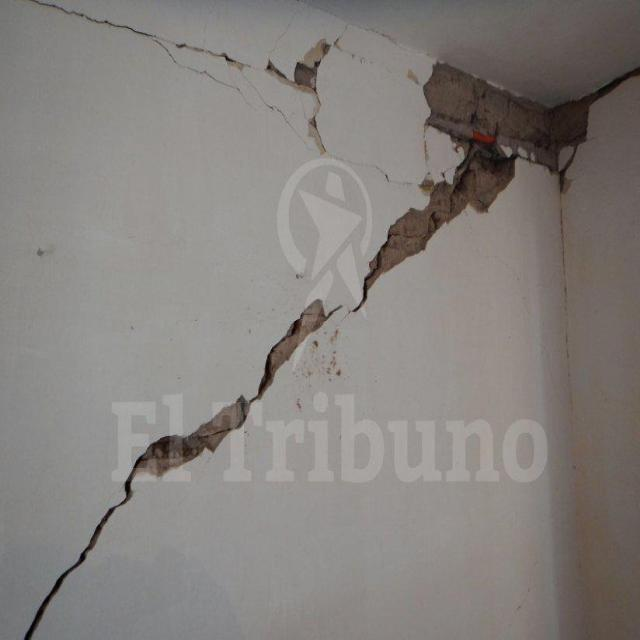crack: (23, 303, 336, 639), (350, 62, 638, 316), (48, 5, 253, 70), (265, 37, 334, 154)
